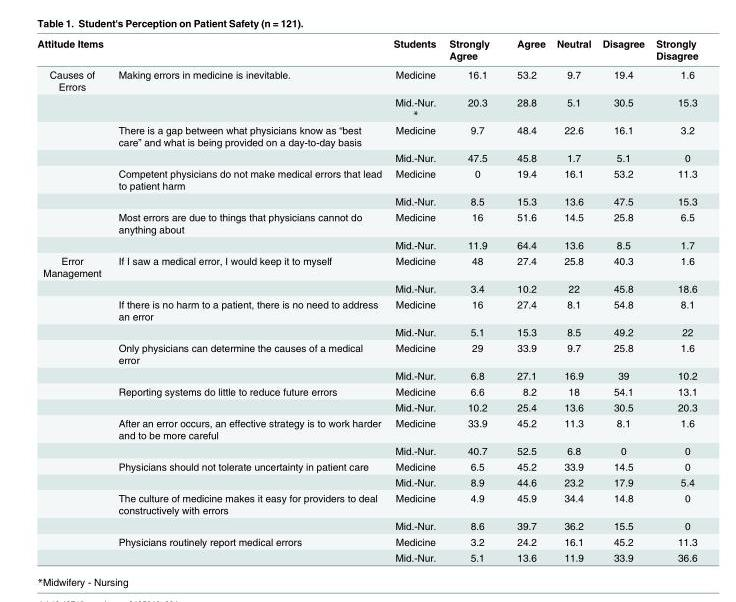table: (36, 37, 697, 562)
table column: (109, 37, 386, 562), (36, 37, 109, 562), (441, 37, 502, 562), (386, 37, 441, 562), (596, 37, 649, 562), (502, 37, 550, 562), (649, 37, 697, 562), (550, 37, 596, 562)
table column header: (36, 37, 697, 94)
table row: (36, 64, 697, 94), (36, 121, 697, 149), (36, 165, 697, 193), (36, 208, 697, 236), (36, 252, 697, 280), (36, 339, 697, 367), (36, 414, 697, 442), (36, 489, 697, 517), (36, 37, 697, 64), (36, 94, 697, 121), (36, 296, 697, 323), (36, 149, 697, 165), (36, 236, 697, 252), (36, 280, 697, 296), (36, 323, 697, 339), (36, 367, 697, 383), (36, 398, 697, 414), (36, 442, 697, 458), (36, 458, 697, 474), (36, 517, 697, 533), (36, 533, 697, 549), (36, 193, 697, 208), (36, 383, 697, 398), (36, 474, 697, 489), (36, 549, 697, 562)
table spanning cell: (36, 252, 109, 562), (36, 37, 386, 64), (441, 37, 502, 94), (386, 37, 441, 94), (596, 37, 649, 94), (502, 37, 550, 94), (649, 37, 697, 94), (550, 37, 596, 94)
